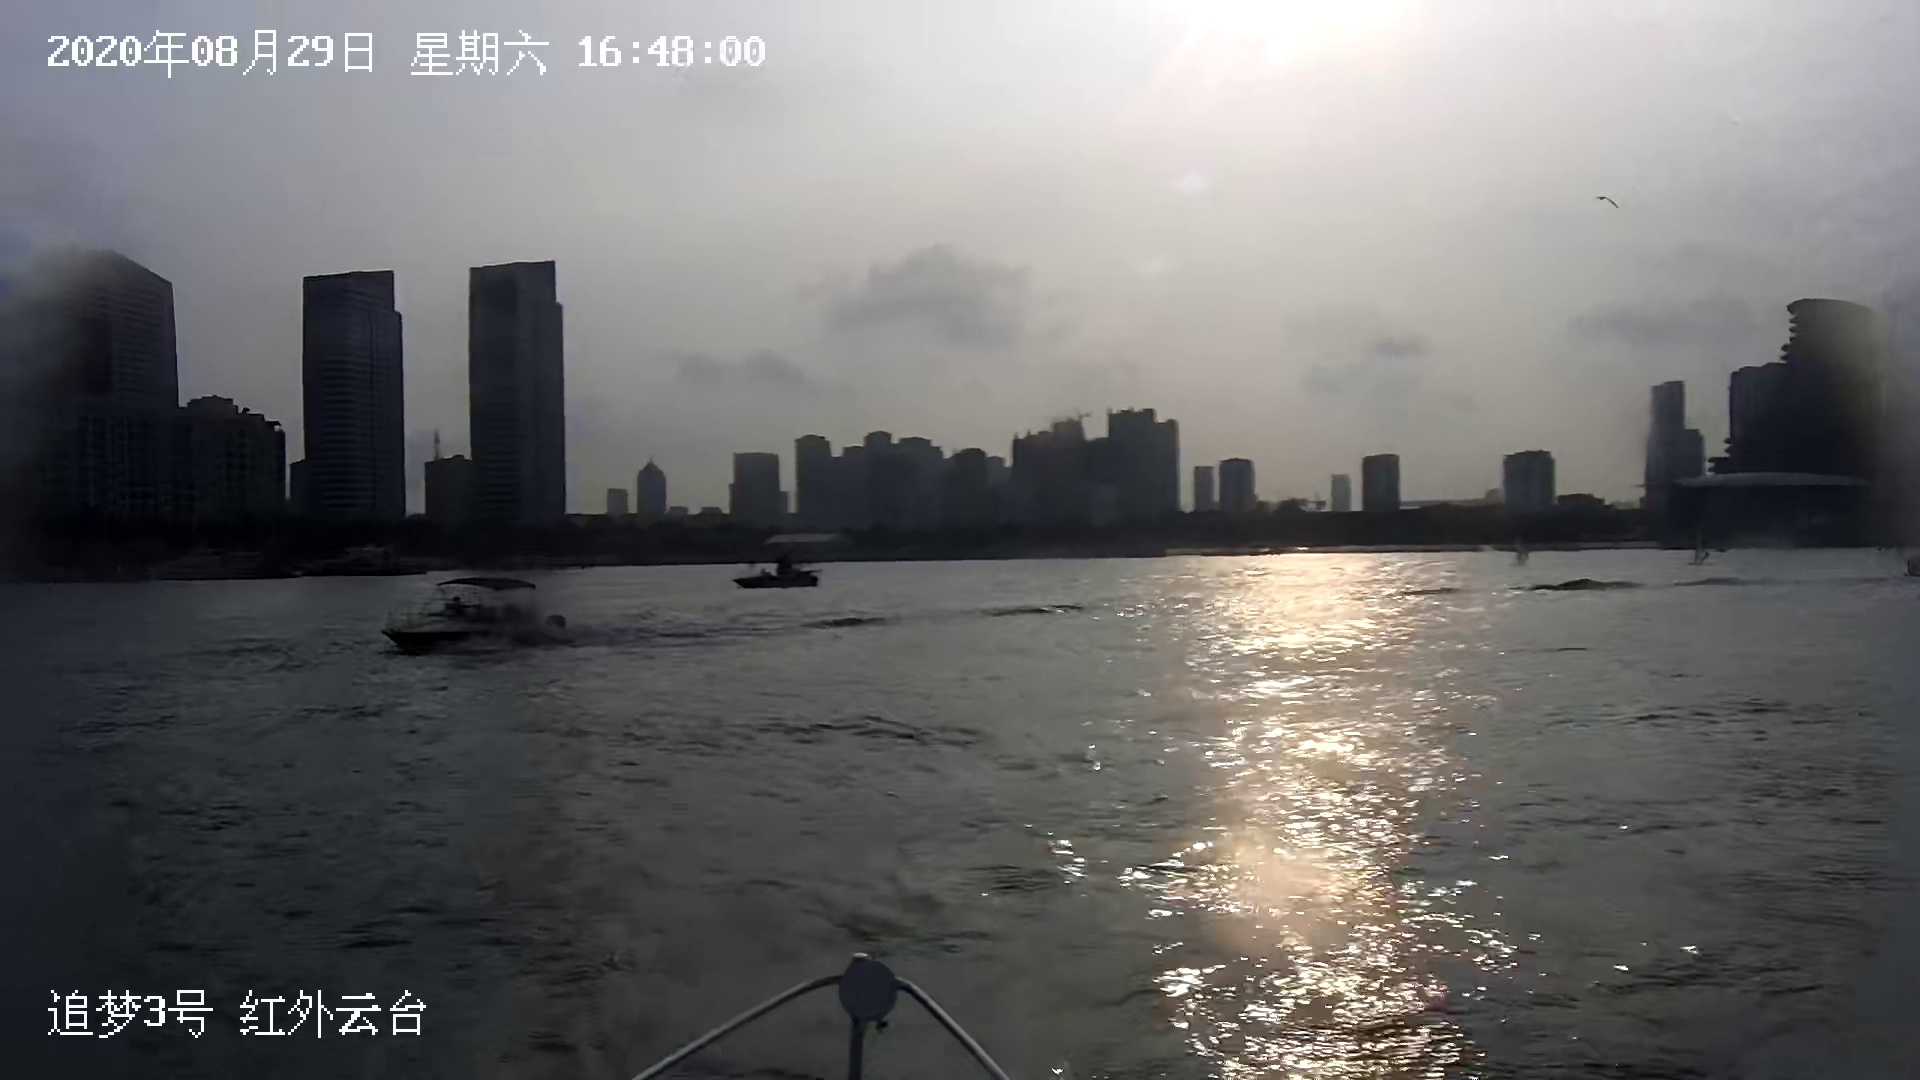barrier: (385, 578, 570, 647), (731, 549, 827, 588), (1507, 541, 1531, 567), (1687, 545, 1706, 568)
coast: (1, 240, 1917, 571)
this: (632, 951, 1021, 1079)
